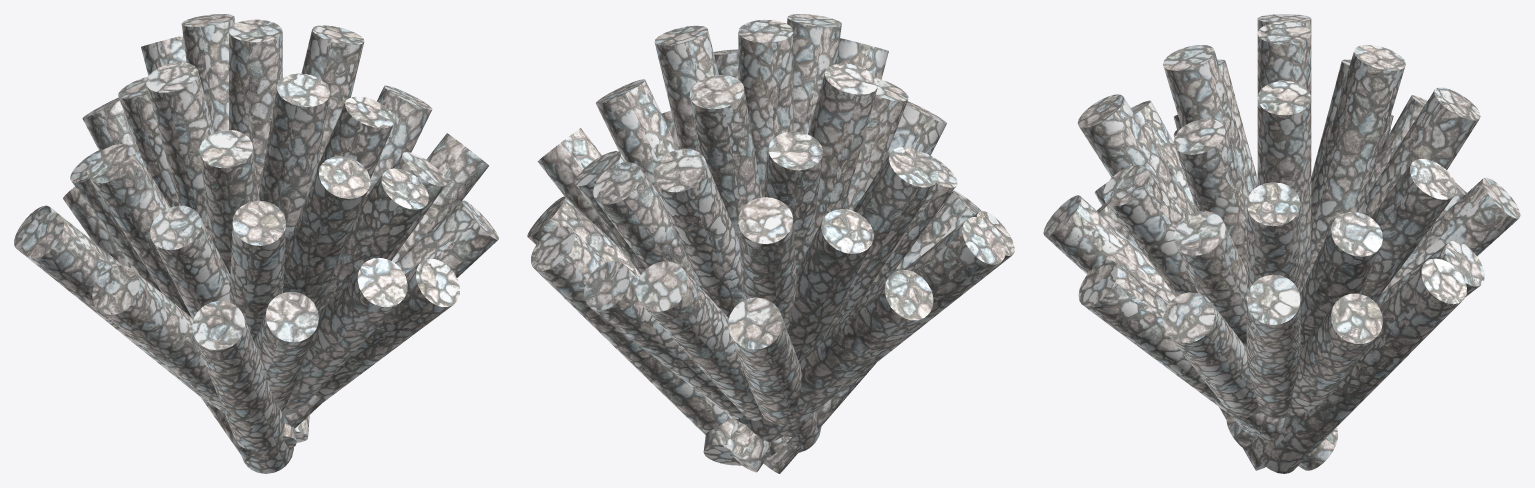
File: coral.obj
3 views of the same model, side by side, from view 1: azimuth 30°, elevation 25°; view 2: azimuth 150°, elevation 25°; view 3: azimuth 270°, elevation 25° (orthographic). The views are drawn at different scales.
Visible parts, largest first — view 1: Part17, Part1, Part27, Part32, Part7, Part8, Part30, Part2, Part19, Part5, Part31, Part21 (+16 smaller); view 2: Part20, Part11, Part4, Part29, Part6, Part34, Part9, Part8, Part30, Part2, Part22, Part10 (+18 smaller); view 3: Part29, Part9, Part31, Part16, Part26, Part3, Part23, Part13, Part15, Part5, Part12, Part14 (+13 smaller).
Boxes of the visible parts, box(x1,y1,x2,y2) form: Part17: box(192, 301, 293, 473); Part1: box(283, 156, 370, 310); Part27: box(259, 73, 329, 250); Part32: box(284, 258, 407, 409); Part7: box(92, 265, 224, 413); Part8: box(146, 62, 214, 234); Part30: box(229, 19, 282, 194); Part2: box(87, 144, 191, 317); Part19: box(229, 200, 285, 341); Part5: box(318, 168, 428, 312); Part31: box(315, 259, 459, 402); Part21: box(150, 205, 230, 318); Part20: box(747, 270, 933, 441); Part11: box(653, 148, 742, 317); Part4: box(636, 261, 763, 420); Part29: box(531, 226, 731, 434); Part6: box(728, 297, 821, 452); Part34: box(734, 209, 873, 424); Part9: box(690, 75, 762, 240); Part8: box(808, 63, 878, 238); Part30: box(738, 19, 793, 197); Part2: box(831, 147, 938, 324); Part22: box(584, 261, 743, 418); Part10: box(738, 197, 796, 330); Part29: box(1252, 258, 1466, 473); Part9: box(1311, 45, 1405, 268); Part31: box(1078, 260, 1337, 470); Part16: box(1257, 81, 1311, 292); Part26: box(1246, 274, 1300, 418); Part3: box(1163, 292, 1260, 436); Part23: box(1286, 293, 1382, 416); Part13: box(1359, 159, 1456, 301); Part15: box(1173, 118, 1248, 269); Part5: box(1103, 165, 1197, 296); Part12: box(1300, 212, 1382, 347); Part14: box(1173, 211, 1248, 347).
Bounding box in the file's own units: 9.74 × 8.94 × 8.87.
